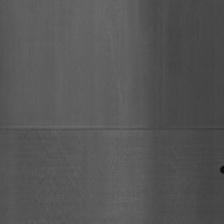punching_hole: (29, 144, 91, 214), (1, 123, 223, 136), (219, 162, 223, 175)
